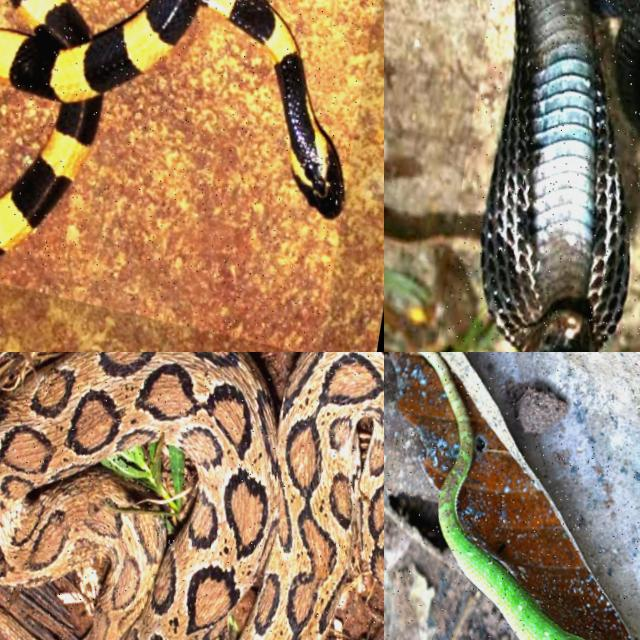Bungarus fasciatus: (0, 0, 343, 254)
Daboia siamensis: (0, 352, 383, 639)
Naja kaouthia: (482, 0, 639, 351)
Trimeresurus: (420, 352, 583, 639)
snake: (0, 352, 383, 639), (0, 0, 343, 254), (482, 0, 639, 351), (420, 352, 583, 639)
